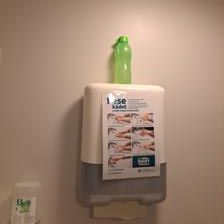bottle: (108, 35, 133, 85)
